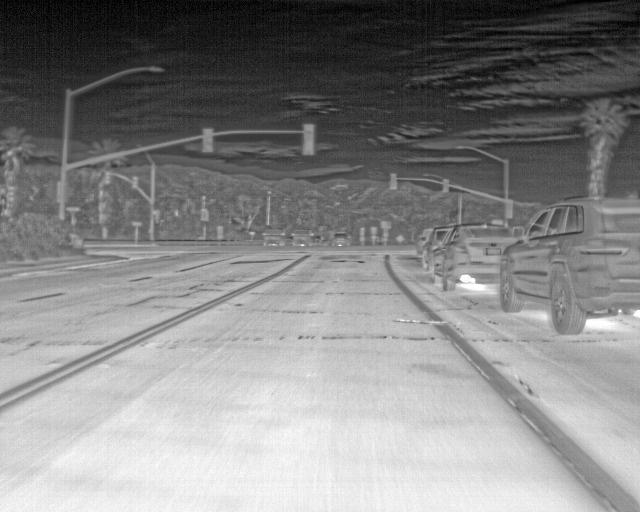car: (501, 197, 639, 334), (441, 223, 507, 289), (420, 228, 450, 271), (413, 228, 431, 249), (260, 230, 281, 246), (331, 232, 351, 248), (308, 233, 324, 247), (294, 236, 309, 249)
